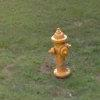Hydrant: (42, 24, 79, 78)
